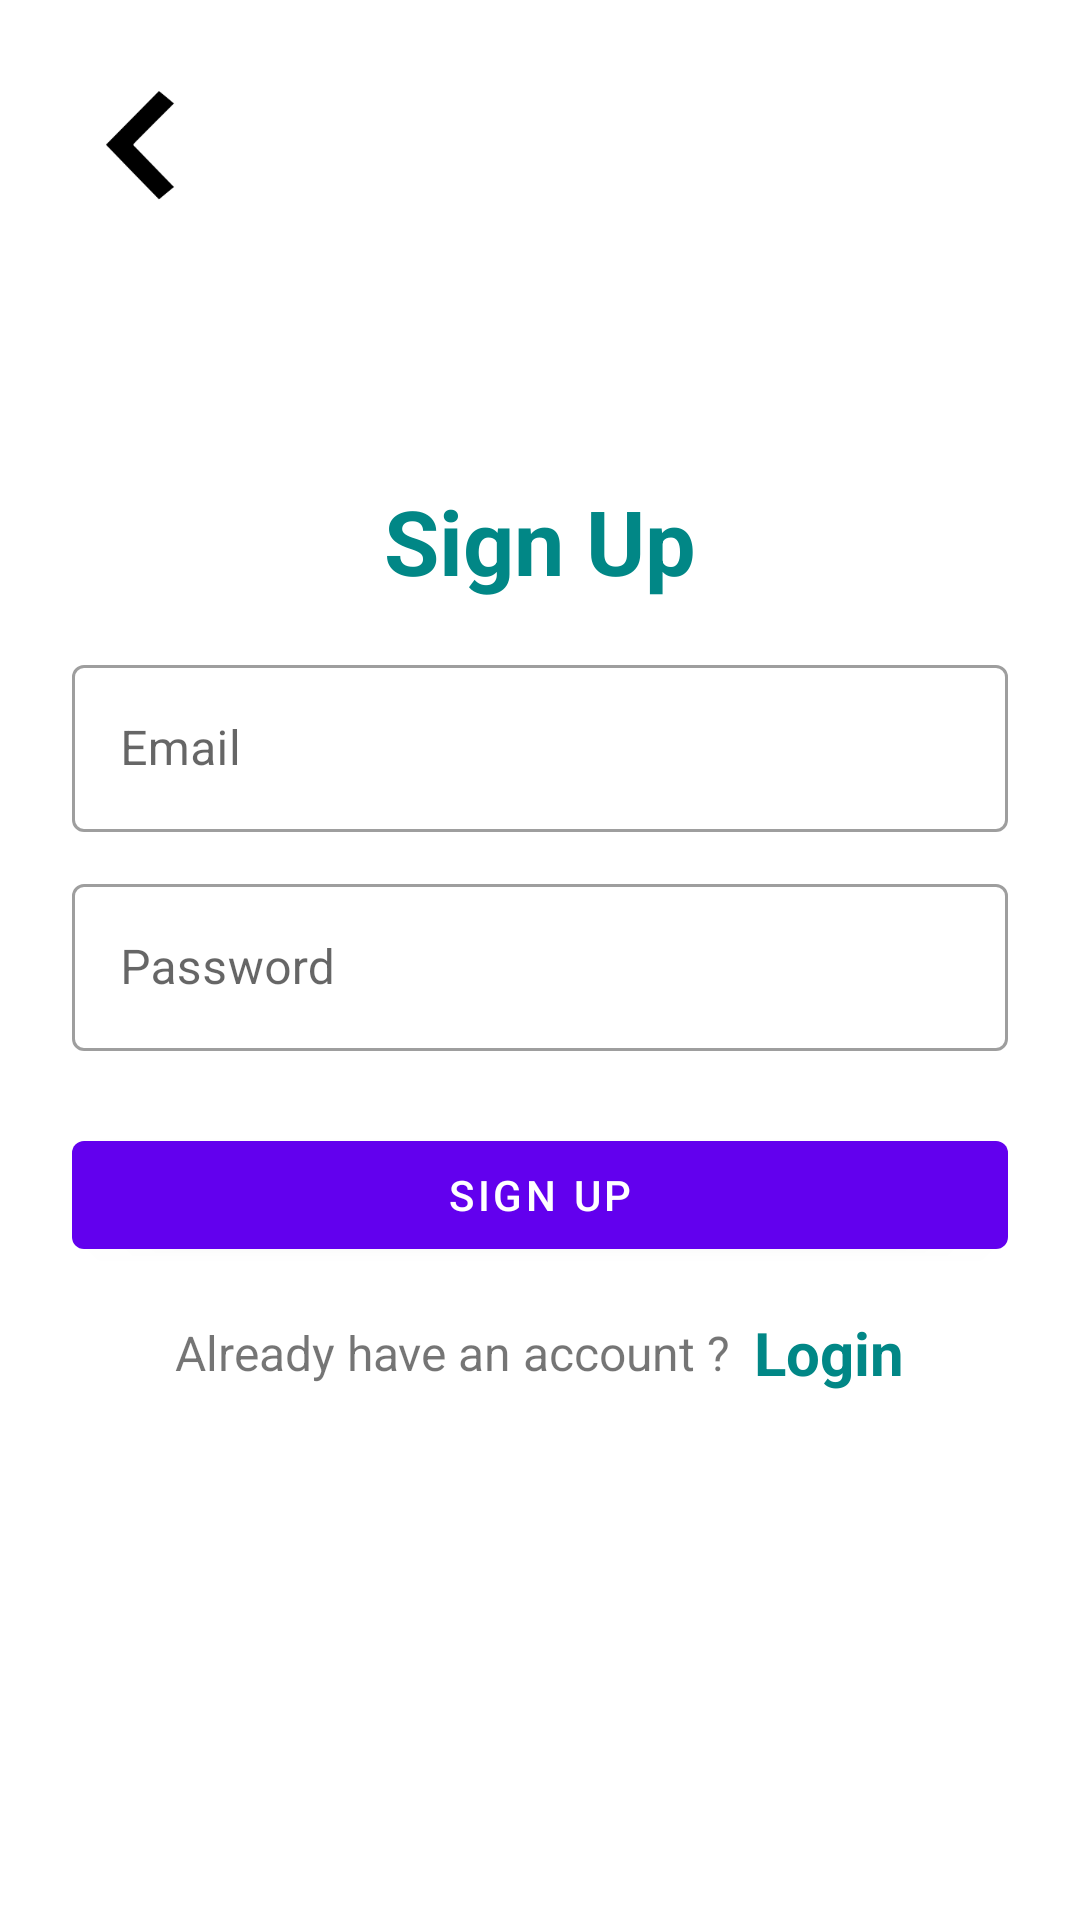

Icon bounding boxes for this 1080×1920 phone screenshot, format {"x1": x1, "y1": y1, "x2": x2, "y2": y2}:
back: {"x1": 106, "y1": 91, "x2": 174, "y2": 199}
